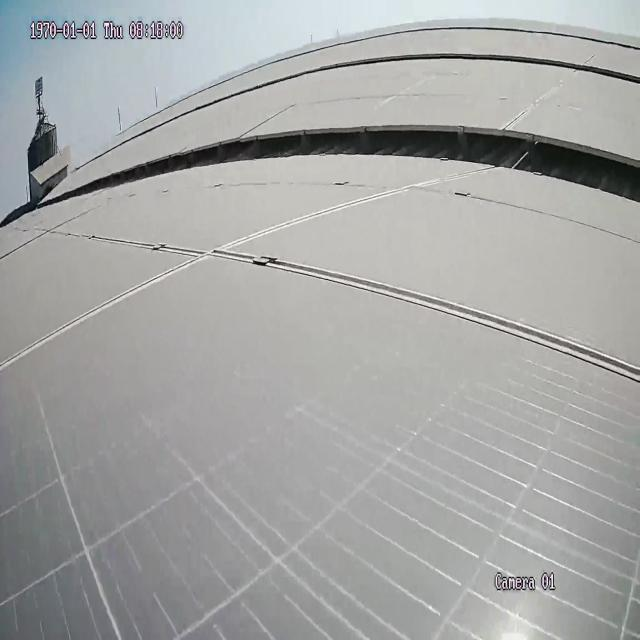interior panel: (4, 174, 633, 386), (85, 235, 194, 255)
outher panel: (107, 130, 638, 206)
